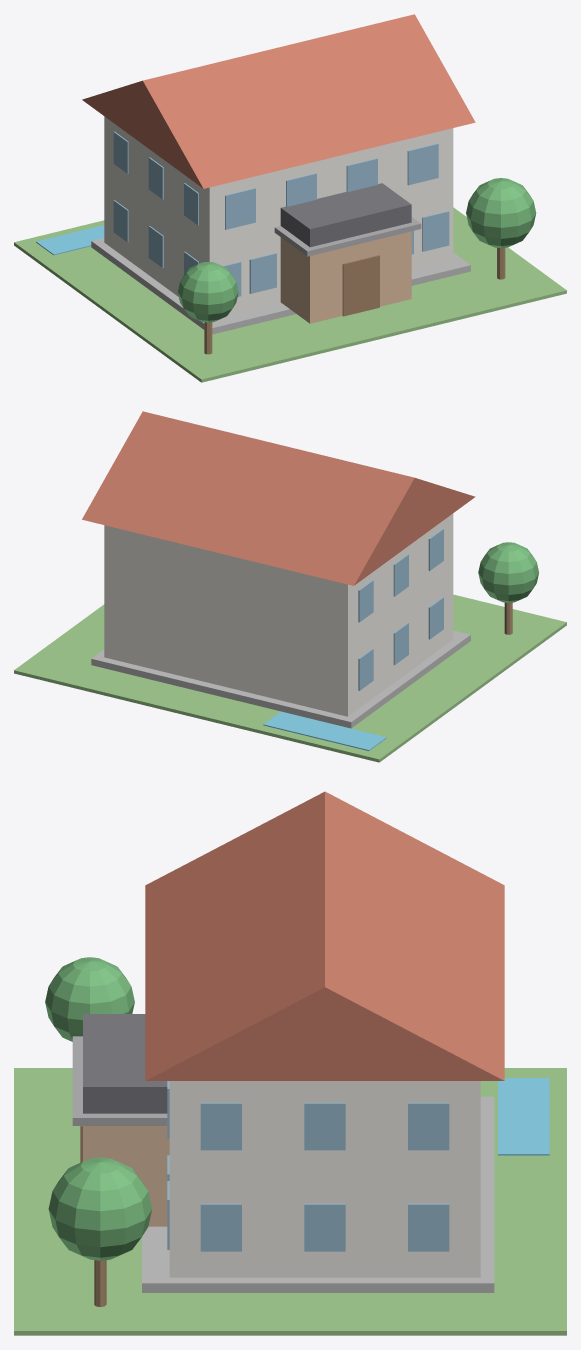
The model's file is house-bietthu.glb.
3 views of the same model, one above another, from view 1: azimuth 30°, elevation 25°; view 2: azimuth 150°, elevation 25°; view 3: azimuth 270°, elevation 25° (orthographic). The views are drawn at different scales.
Visible parts, largest first — view 1: Mái chính, Sân vườn, Tường chính, Khối phụ, Cây, Ban công, Cửa sổ tầng 2, Nền, Cửa sổ hông, Cửa sổ tầng 1, Cửa chính, Mái khối phụ (+2 smaller); view 2: Tường chính, Mái chính, Sân vườn, Nền, Cửa sổ hông, Cây, Hồ bơi; view 3: Mái chính, Sân vườn, Tường chính, Cây, Cửa sổ hông, Nền, Ban công, Khối phụ, Hồ bơi, Mái khối phụ.
Part boxes in pixels (x1,y1,x2,y2): Mái chính: [82, 14, 475, 188]; Sân vườn: [14, 207, 566, 382]; Tường chính: [104, 116, 453, 314]; Khối phụ: [280, 231, 411, 323]; Cây: [177, 178, 536, 322]; Ban công: [280, 183, 411, 247]; Cửa sổ tầng 2: [225, 143, 438, 229]; Nền: [91, 238, 470, 334]; Cửa sổ hông: [113, 131, 198, 274]; Cửa sổ tầng 1: [223, 211, 449, 296]; Cửa chính: [342, 255, 379, 316]; Mái khối phụ: [274, 217, 421, 256]; Tường chính: [104, 513, 453, 716]; Mái chính: [82, 411, 475, 585]; Sân vườn: [14, 594, 566, 762]; Nền: [91, 630, 470, 728]; Cửa sổ hông: [358, 528, 443, 690]; Cây: [478, 542, 538, 602]; Hồ bơi: [263, 711, 386, 750]; Mái chính: [145, 791, 504, 1080]; Sân vườn: [14, 1068, 566, 1335]; Tường chính: [169, 1081, 480, 1277]; Cây: [45, 957, 151, 1260]; Cửa sổ hông: [200, 1102, 449, 1251]; Nền: [142, 1096, 494, 1292]; Ban công: [83, 1014, 167, 1113]; Khối phụ: [83, 1126, 169, 1226]; Hồ bơi: [498, 1078, 549, 1155]; Mái khối phụ: [72, 1036, 167, 1125].
Bounding box in the file's own units: 18 × 10.05 × 16.
